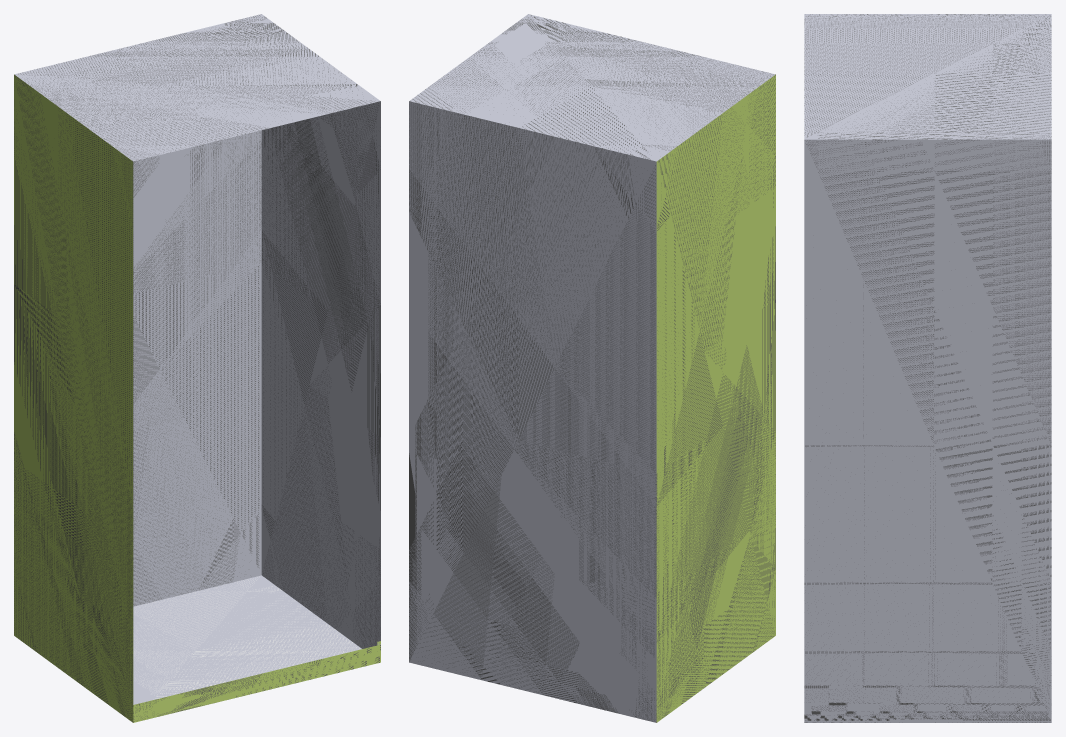
File: frame.dae
3 renders of one model, left to right at view 1: azimuth 30°, elevation 25°; view 2: azimuth 150°, elevation 25°; view 3: azimuth 270°, elevation 25°, orthographic. The views are drawn at different scales.
Parts seen in each view (by area): view 1: SketchUp.009, SketchUp.006, SketchUp.010; view 2: SketchUp.009, SketchUp.006; view 3: SketchUp.009.
Part boxes in pixels (x1,y1,x2,y2): SketchUp.009: [14, 14, 380, 648]; SketchUp.006: [14, 74, 380, 722]; SketchUp.010: [133, 575, 361, 704]; SketchUp.009: [409, 14, 775, 722]; SketchUp.006: [656, 74, 775, 722]; SketchUp.009: [804, 14, 1051, 722].
Bounding box in the file's own units: 0.9145 × 0.7621 × 1.98.
